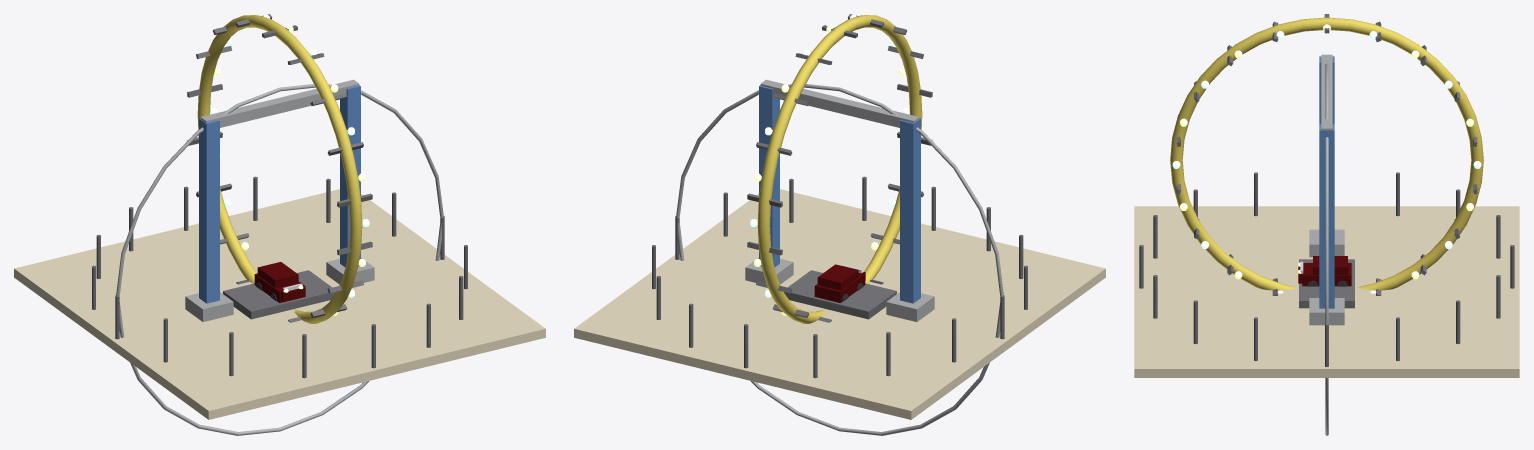
Rendered from ride_superloop.glb.
3 renders of one model, left to right at view 1: azimuth 30°, elevation 25°; view 2: azimuth 150°, elevation 25°; view 3: azimuth 270°, elevation 25°, orthographic.
Visible parts, largest first — view 1: base, car; view 2: base, car; view 3: base, car.
Boxes of the visible parts, x1=… form: base: x1=14, y1=14, x2=545, y2=435; car: x1=254, y1=262, x2=305, y2=302; base: x1=574, y1=14, x2=1105, y2=435; car: x1=814, y1=264, x2=865, y2=302; base: x1=1134, y1=14, x2=1519, y2=435; car: x1=1298, y1=256, x2=1351, y2=286.
Size of the model in its own units: 5.5 by 6.32 by 5.5.
Materials: 11 (1 with a texture image).
